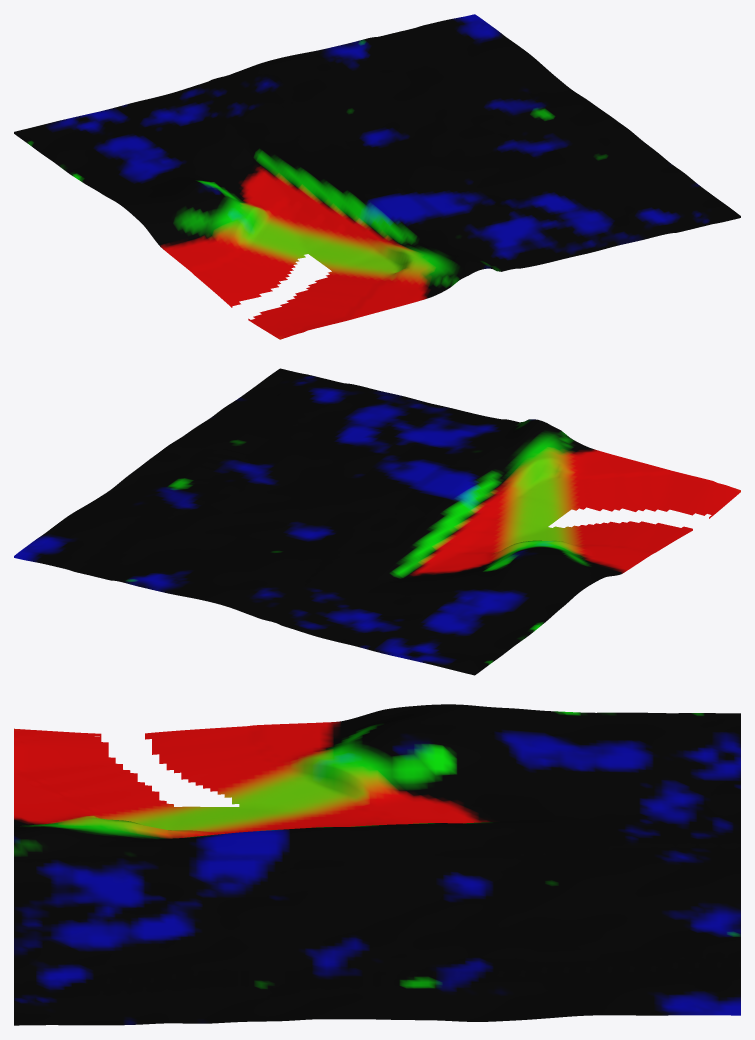
Rendered from coast_-400_-800_400.glb.
3 views of the same model, one above another, from view 1: azimuth 30°, elevation 25°; view 2: azimuth 150°, elevation 25°; view 3: azimuth 270°, elevation 25° (orthographic). The views are drawn at different scales.
Parts seen in each view (by area): view 1: terrain; view 2: terrain; view 3: terrain.
Boxes of the visible parts, left/top/right/bottom form: terrain: left=14, top=14, right=740, bottom=339; terrain: left=14, top=368, right=740, bottom=675; terrain: left=14, top=704, right=740, bottom=1025.
Bounding box in the file's own units: 400 × 26.43 × 400.
